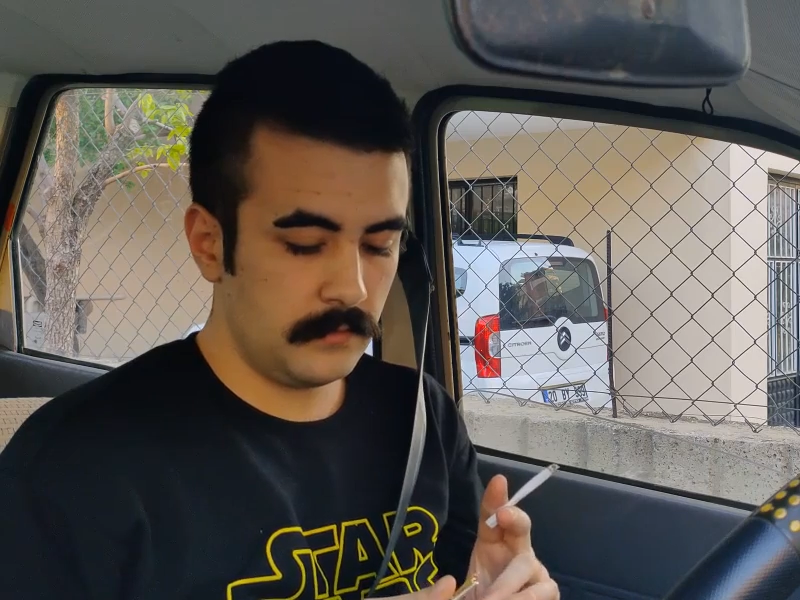sigara: (479, 460, 566, 531)
